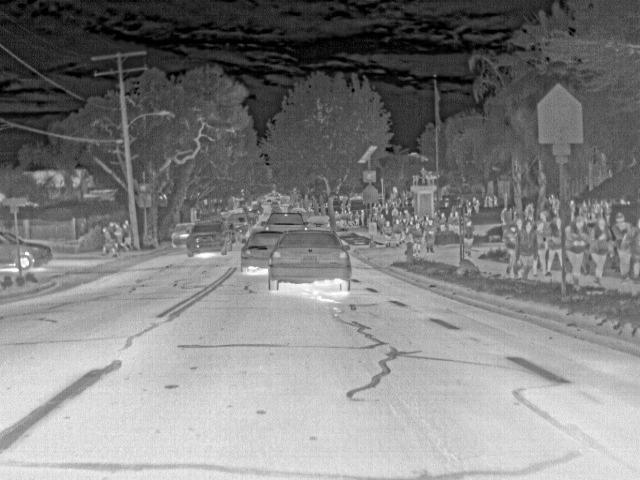car: (267, 228, 350, 289), (0, 231, 55, 270), (239, 230, 284, 274), (188, 220, 235, 256), (264, 212, 306, 229), (221, 214, 251, 234), (171, 222, 194, 248), (306, 213, 330, 229)
person: (563, 214, 589, 290), (590, 214, 613, 288), (610, 212, 631, 281), (547, 214, 564, 276), (518, 218, 534, 279), (502, 222, 518, 278), (535, 220, 547, 278), (461, 218, 474, 258), (632, 213, 639, 283), (410, 221, 423, 255), (100, 225, 115, 254), (423, 218, 435, 253), (392, 218, 404, 246), (122, 222, 133, 250), (114, 222, 124, 250), (382, 220, 392, 248), (401, 208, 411, 236), (437, 212, 447, 232), (452, 210, 460, 234), (376, 213, 386, 232), (445, 211, 454, 232), (471, 196, 480, 216), (465, 197, 473, 218), (358, 207, 366, 227), (353, 207, 361, 227)
